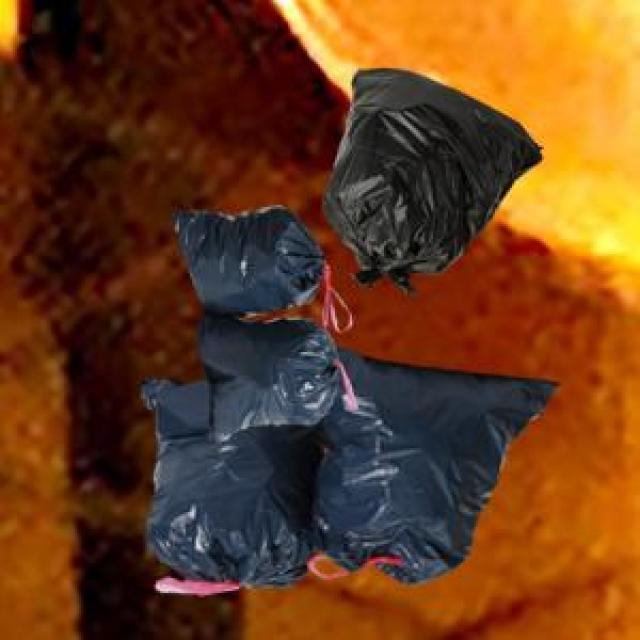Vinyl: (142, 206, 554, 584), (324, 70, 541, 289)
